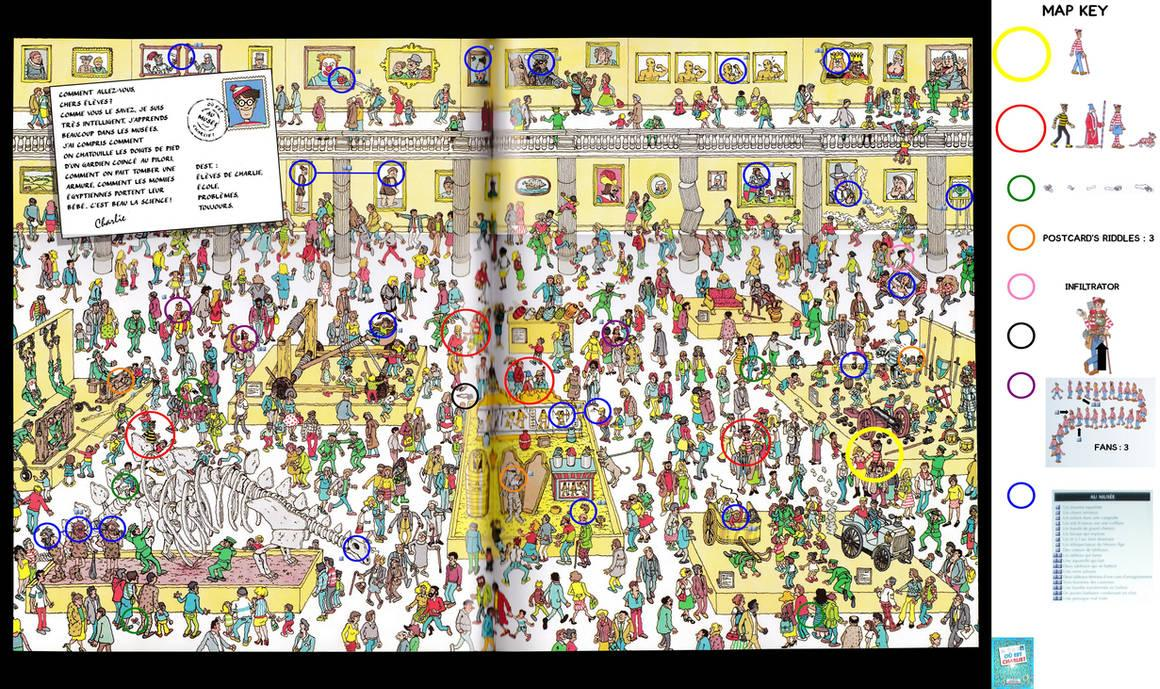waldo: (1071, 26, 1089, 77), (870, 439, 885, 465), (1114, 102, 1122, 149), (743, 430, 751, 456), (241, 330, 251, 346), (175, 301, 182, 319)
